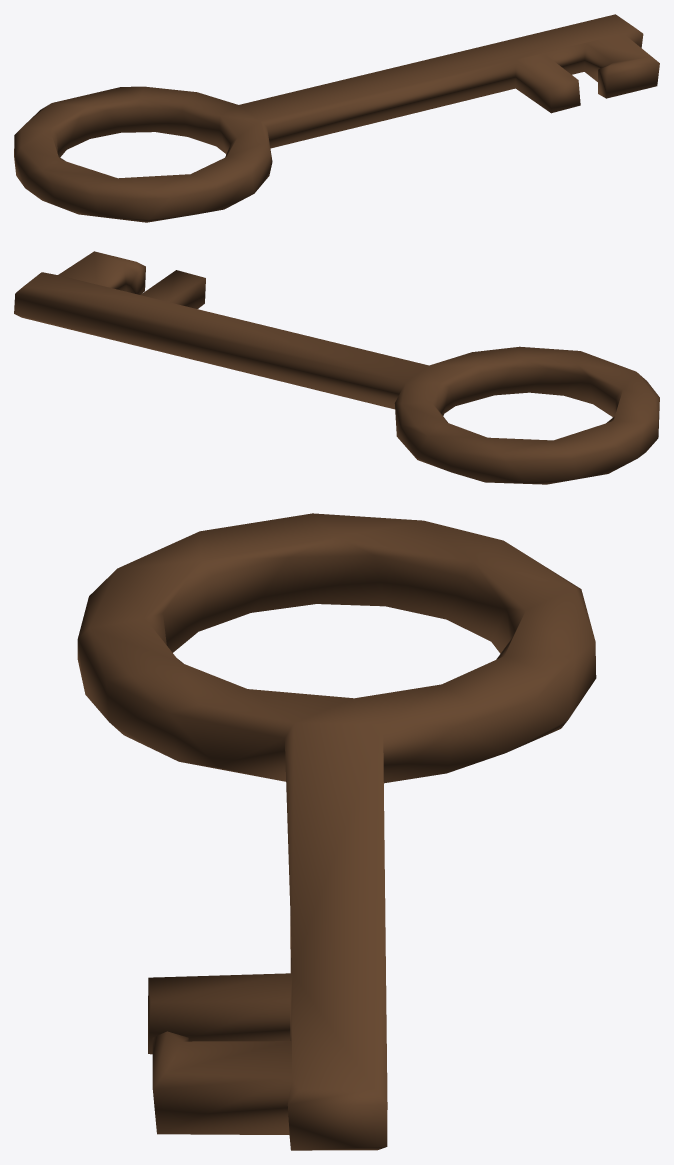
The model's file is key.fbx.
The picture shows the model from 3 angles, top to bottom: view 1: azimuth 30°, elevation 25°; view 2: azimuth 150°, elevation 25°; view 3: azimuth 270°, elevation 25°; orthographic projection. The views are drawn at different scales.
Visible parts, largest first — view 1: chave; view 2: chave; view 3: chave.
Part boxes in pixels (x1=…): chave: x1=14, y1=14, x2=659, y2=222; chave: x1=14, y1=251, x2=659, y2=484; chave: x1=77, y1=513, x2=596, y2=1150.
Bounding box in the file's own units: 536 × 25.94 × 200.
1 material, 1 textured.
